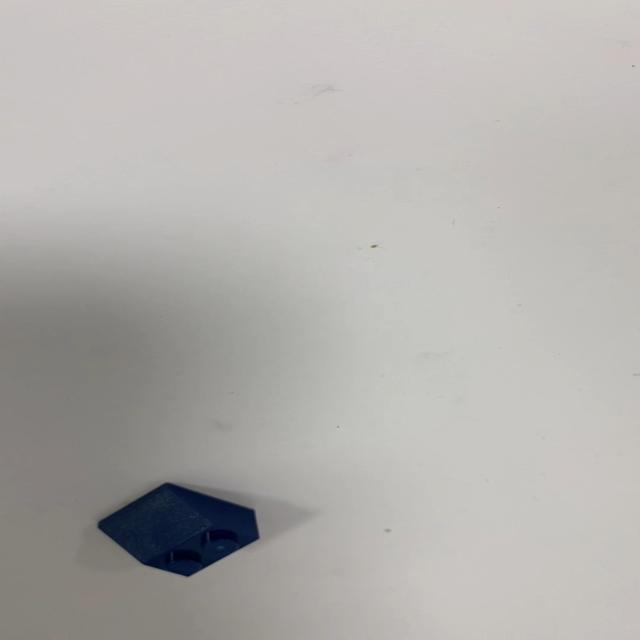P2x2x1: (95, 481, 261, 577)
